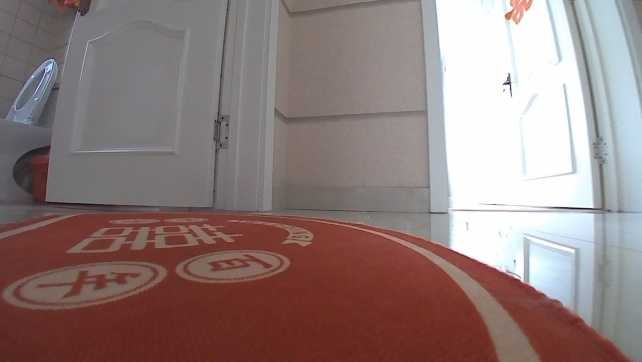blanket: (0, 210, 625, 360)
door_anno: (43, 3, 280, 210), (497, 0, 639, 210)
toilet: (1, 55, 57, 198)
